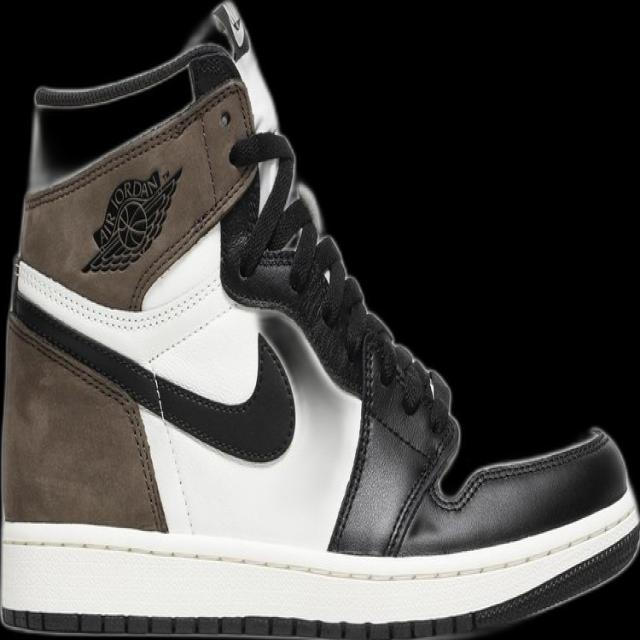J1_InsoleChar: (0, 0, 639, 639)
J1_ShoeLogo: (80, 164, 183, 275)
J1_StitchPattern: (224, 130, 454, 452), (1, 507, 639, 589), (6, 307, 296, 465), (6, 311, 171, 533), (281, 224, 441, 419), (328, 329, 454, 553), (12, 257, 224, 334), (433, 423, 612, 512), (1, 607, 476, 639), (356, 331, 456, 458), (327, 329, 383, 553)
